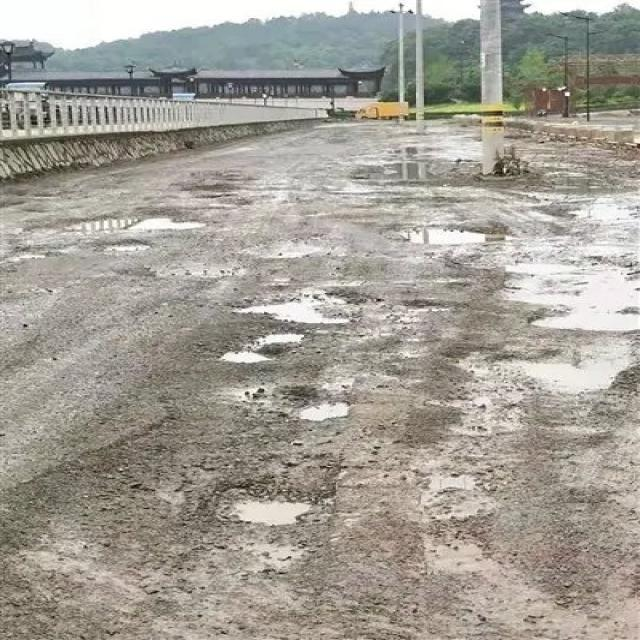pothole: (210, 490, 328, 533), (208, 328, 317, 369), (384, 226, 535, 254), (245, 297, 362, 333), (275, 391, 373, 433), (127, 213, 210, 236)
